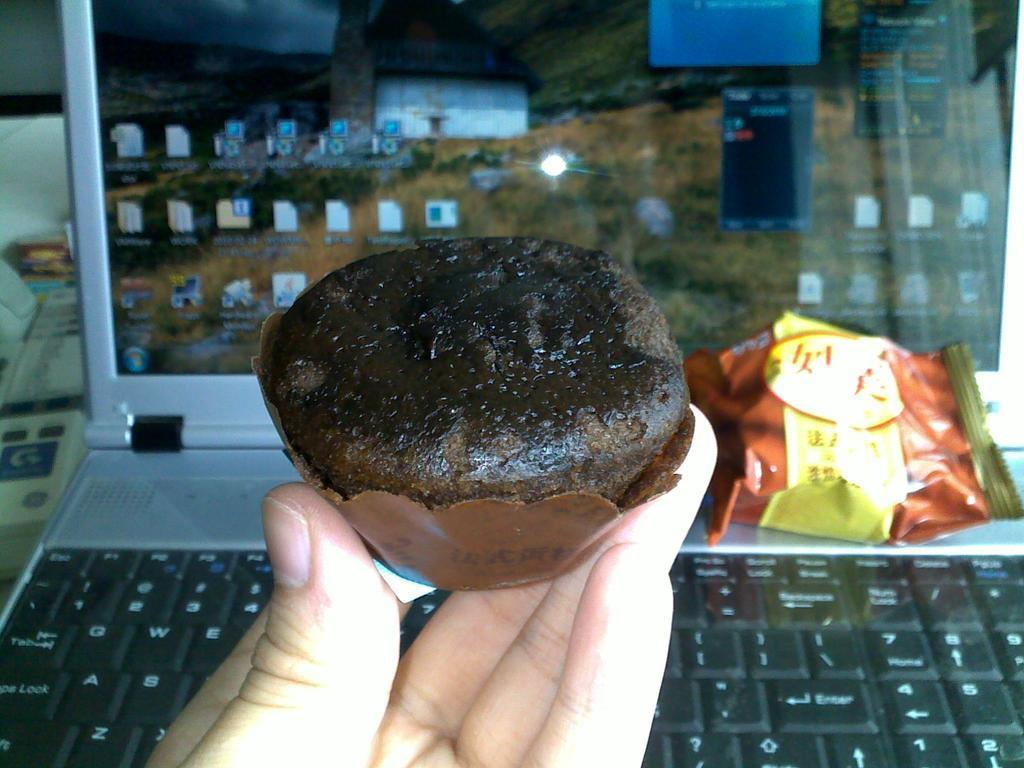Computer-keyboard: (0, 547, 1023, 767)
